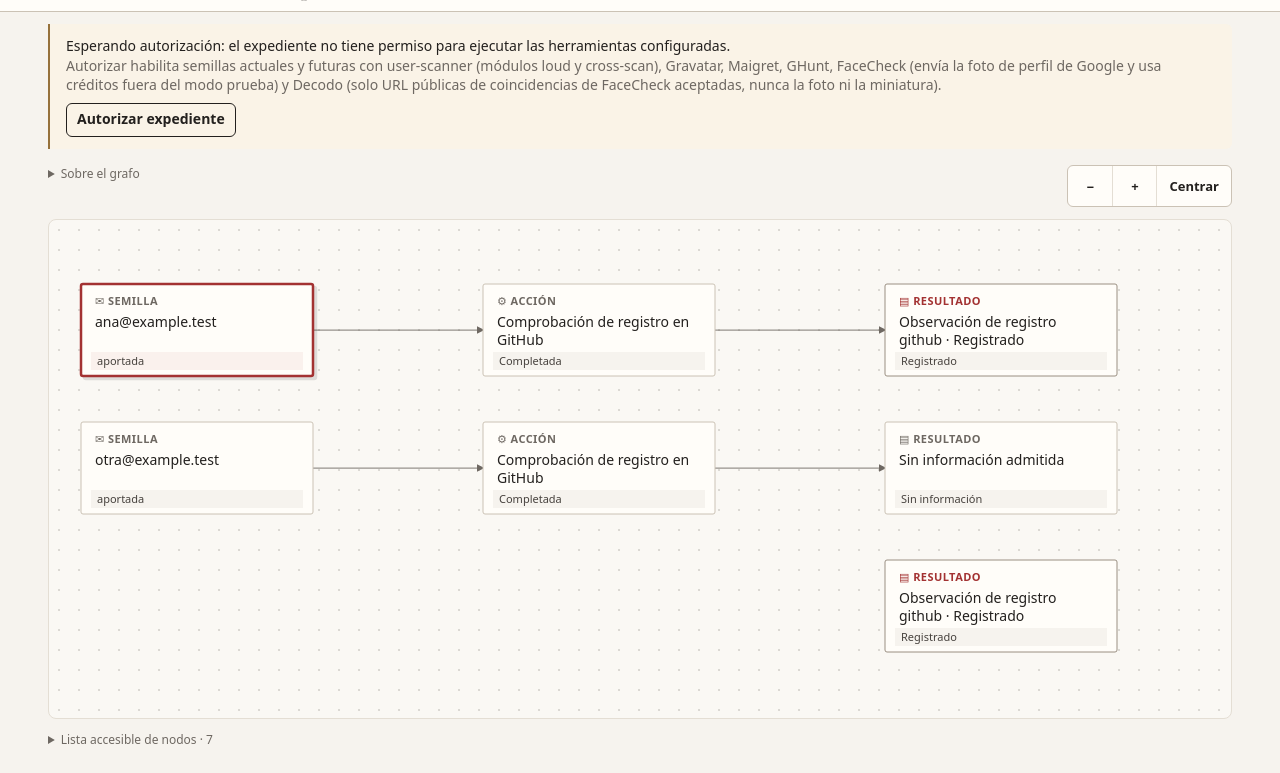
espacio de investigación factual › dibuja solo relaciones respaldadas por IDs y selecciona el mismo nodo desde la lista accesible
(page scrolled)
Expected: the button "Semilla: ana@example.test" is shown, [95, 293, 216, 368]
Click the heading "Lista accesible de nodos · 7" at x=130, y=740, box [48, 731, 213, 749]
(page scrolled)
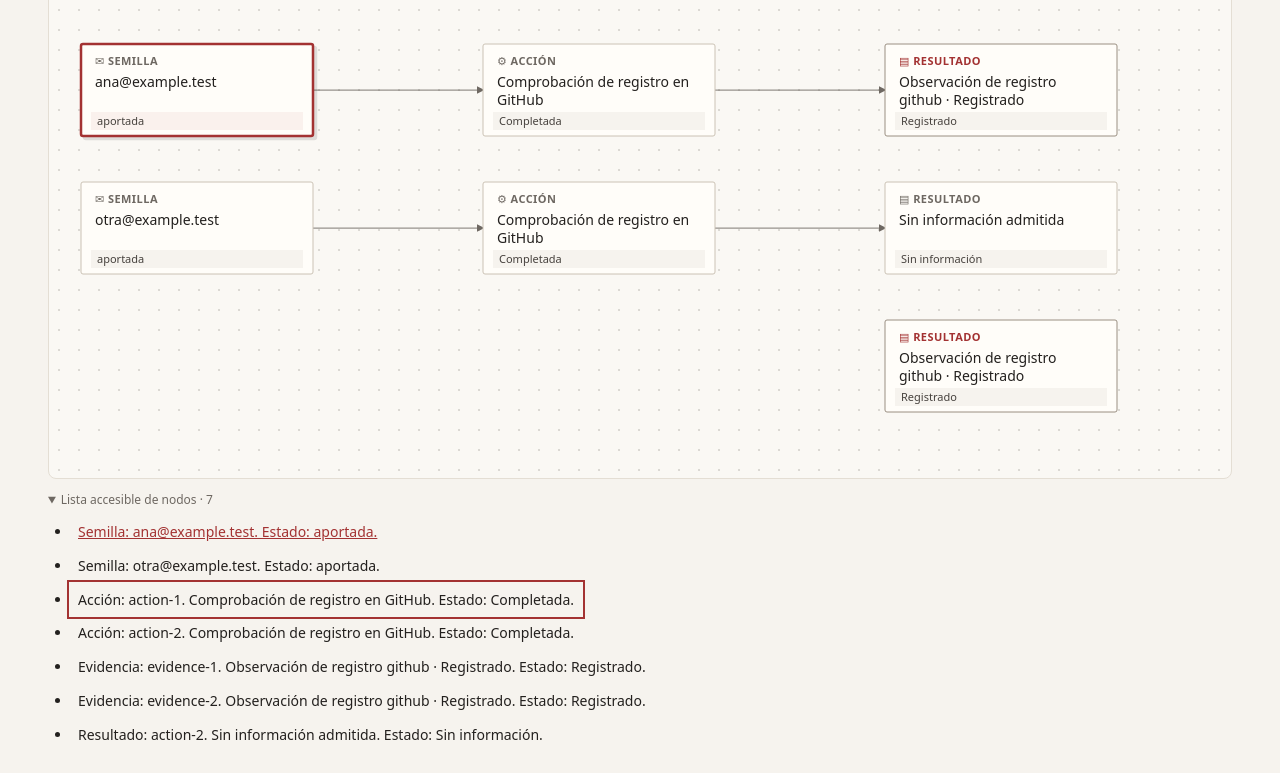
Press Enter
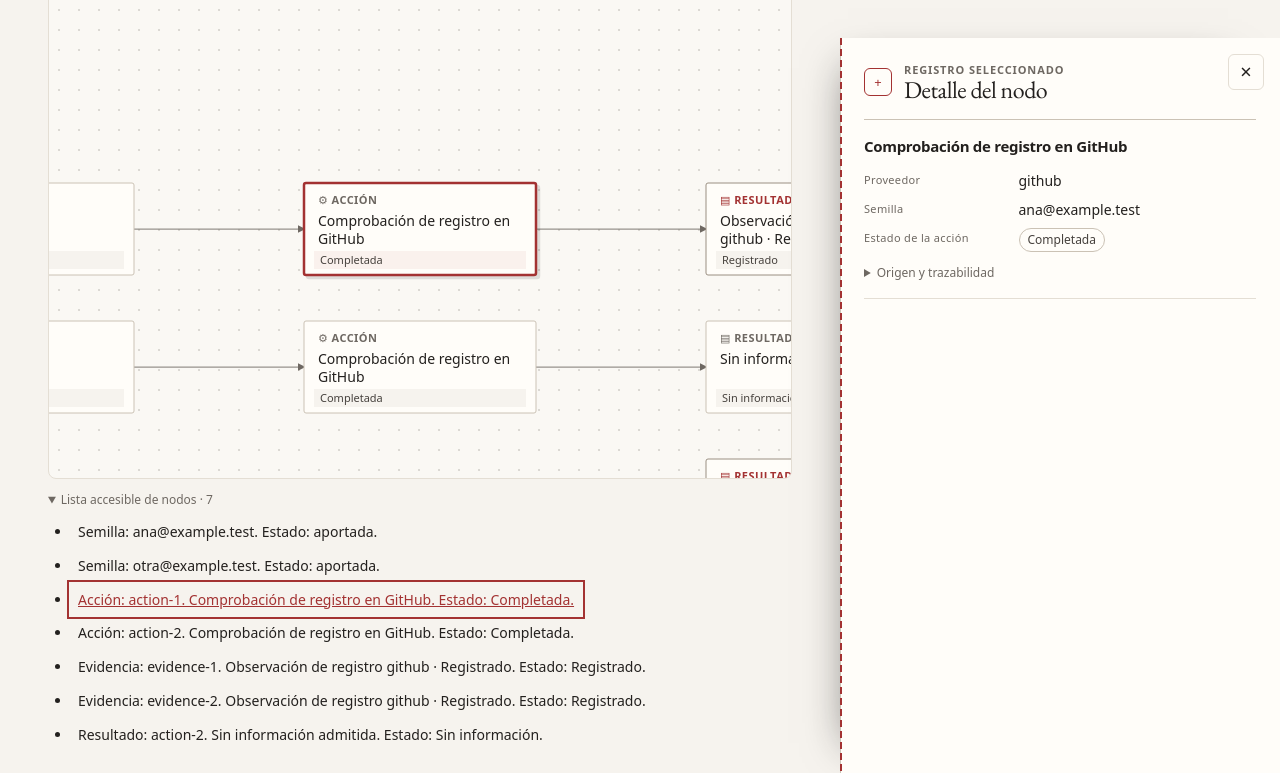
Expected: the text "Completada" is shown, [320, 252, 383, 267]
Expected: the text "Estado de la acción" is shown, [864, 230, 969, 245]
Expected: the heading "Comprobación de registro en GitHub" is shown, [864, 136, 1127, 156]
